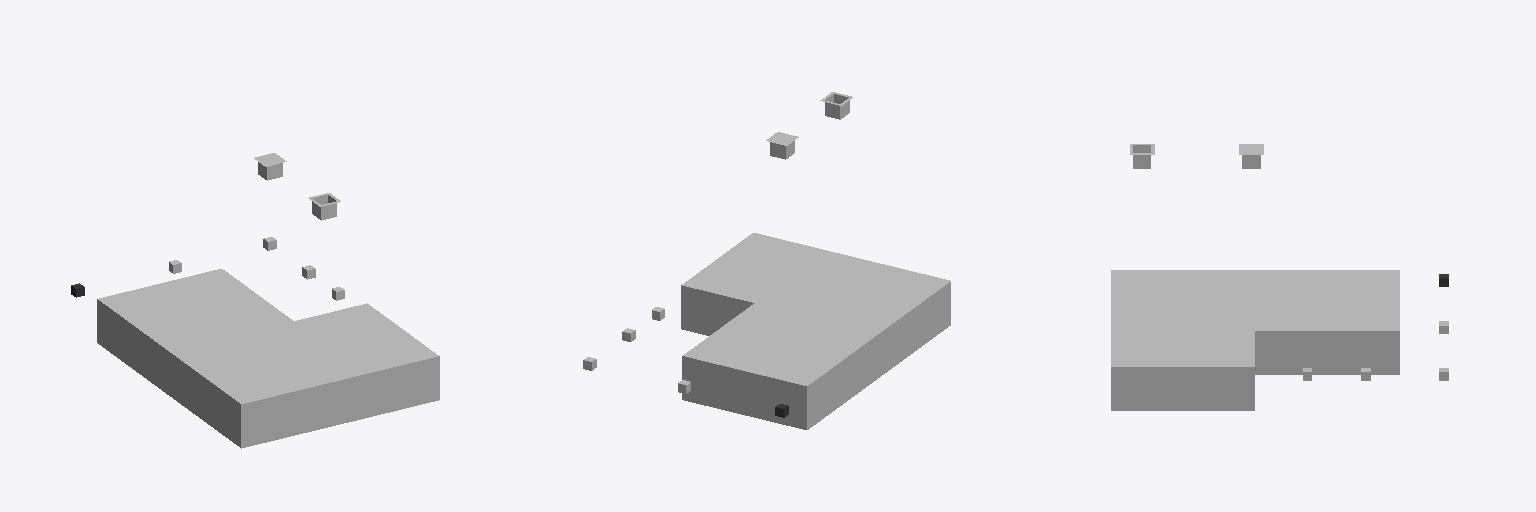
File: CP_Concreto.obj
3 views of the same model, side by side, from view 1: azimuth 30°, elevation 25°; view 2: azimuth 150°, elevation 25°; view 3: azimuth 270°, elevation 25° (orthographic).
Visible parts, largest first — view 1: Cube.022_Cube.028, Cube.048_Cube.046, Cube.047_Cube.044; view 2: Cube.022_Cube.028, Cube.047_Cube.044, Cube.048_Cube.046; view 3: Cube.022_Cube.028, Cube.048_Cube.046, Cube.047_Cube.044.
Part boxes in pixels (bbox=[...]): Cube.022_Cube.028: bbox=[97, 269, 439, 448]; Cube.048_Cube.046: bbox=[254, 153, 286, 180]; Cube.047_Cube.044: bbox=[309, 193, 340, 220]; Cube.022_Cube.028: bbox=[681, 233, 950, 429]; Cube.047_Cube.044: bbox=[820, 92, 852, 119]; Cube.048_Cube.046: bbox=[766, 132, 798, 159]; Cube.022_Cube.028: bbox=[1111, 270, 1399, 410]; Cube.048_Cube.046: bbox=[1239, 144, 1263, 168]; Cube.047_Cube.044: bbox=[1130, 144, 1154, 168].
Size of the model in its own units: 9 by 9.14 by 13.13.